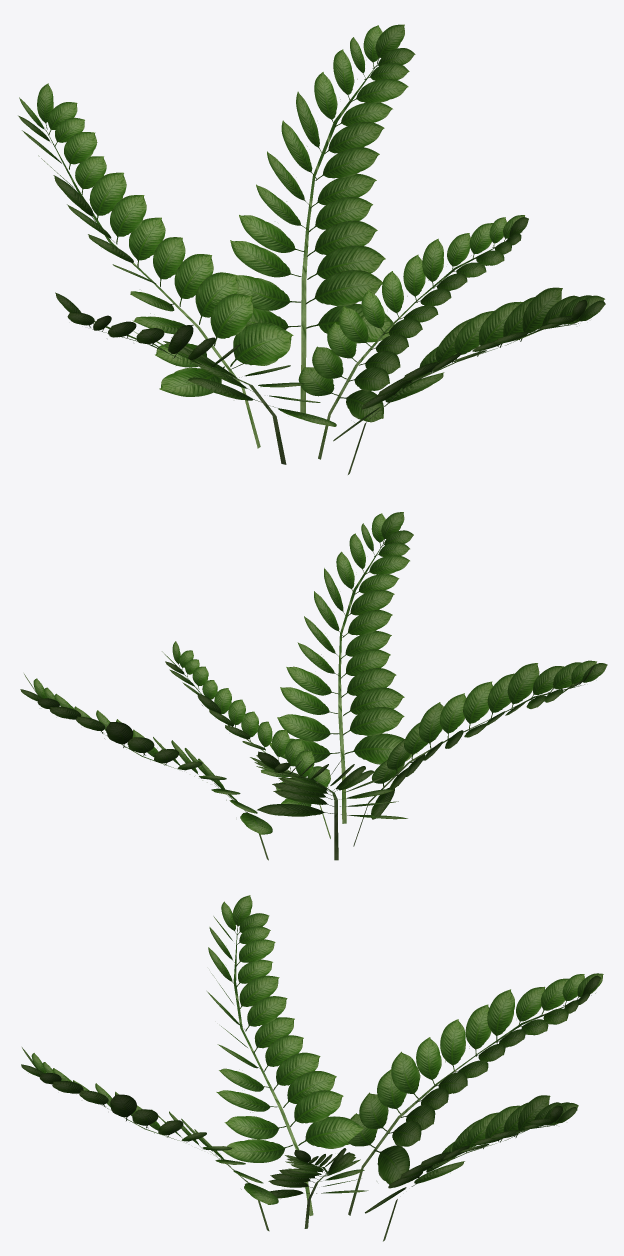
3 views of the same model, one above another, from view 1: azimuth 30°, elevation 25°; view 2: azimuth 150°, elevation 25°; view 3: azimuth 270°, elevation 25° (orthographic). The views are drawn at different scales.
Parts seen in each view (by area): view 1: za_LOD1; view 2: za_LOD1; view 3: za_LOD1.
Part boxes in pixels (x1=…): za_LOD1: x1=18, y1=24, x2=605, y2=474; za_LOD1: x1=20, y1=512, x2=607, y2=860; za_LOD1: x1=21, y1=895, x2=603, y2=1241.
Size of the model in its own units: 987 by 467 by 1140.
